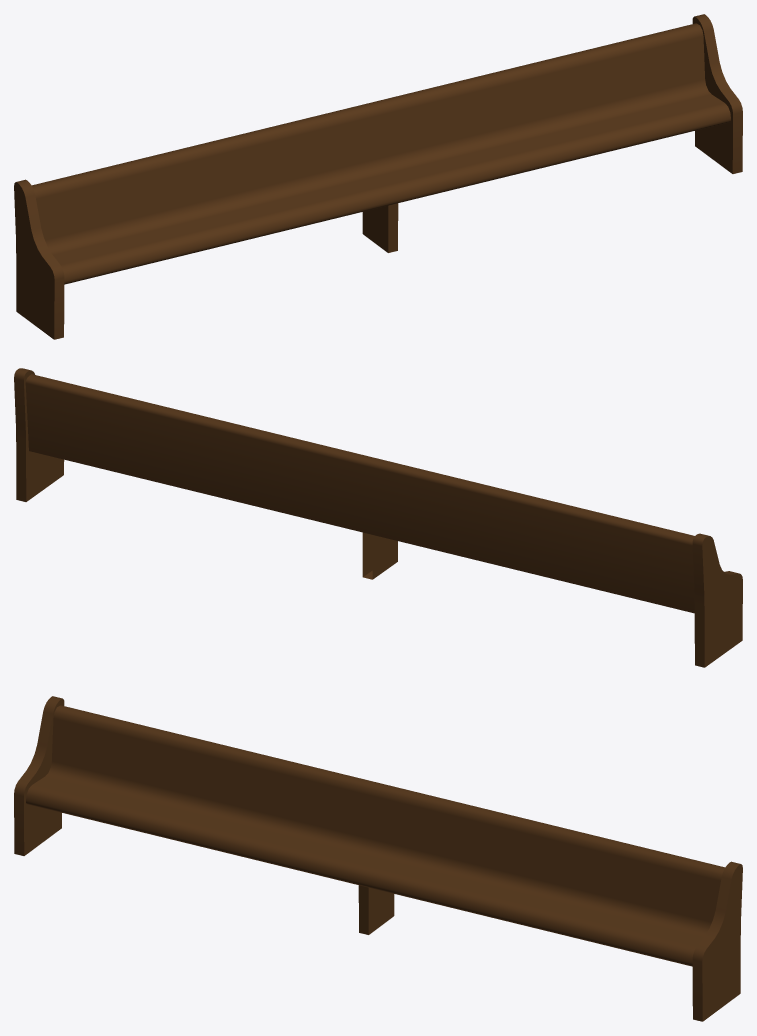
The model's file is Pew.glb.
3 views of the same model, one above another, from view 1: azimuth 30°, elevation 25°; view 2: azimuth 150°, elevation 25°; view 3: azimuth 330°, elevation 25° (orthographic).
Parts seen in each view (by area): view 1: pew; view 2: pew; view 3: pew.
Boxes of the visible parts, <box> form: pew: <box>14,14,742,339</box>; pew: <box>14,368,742,667</box>; pew: <box>14,696,742,1021</box>.
Size of the model in its own units: 31.59 by 5.7 by 3.23.
